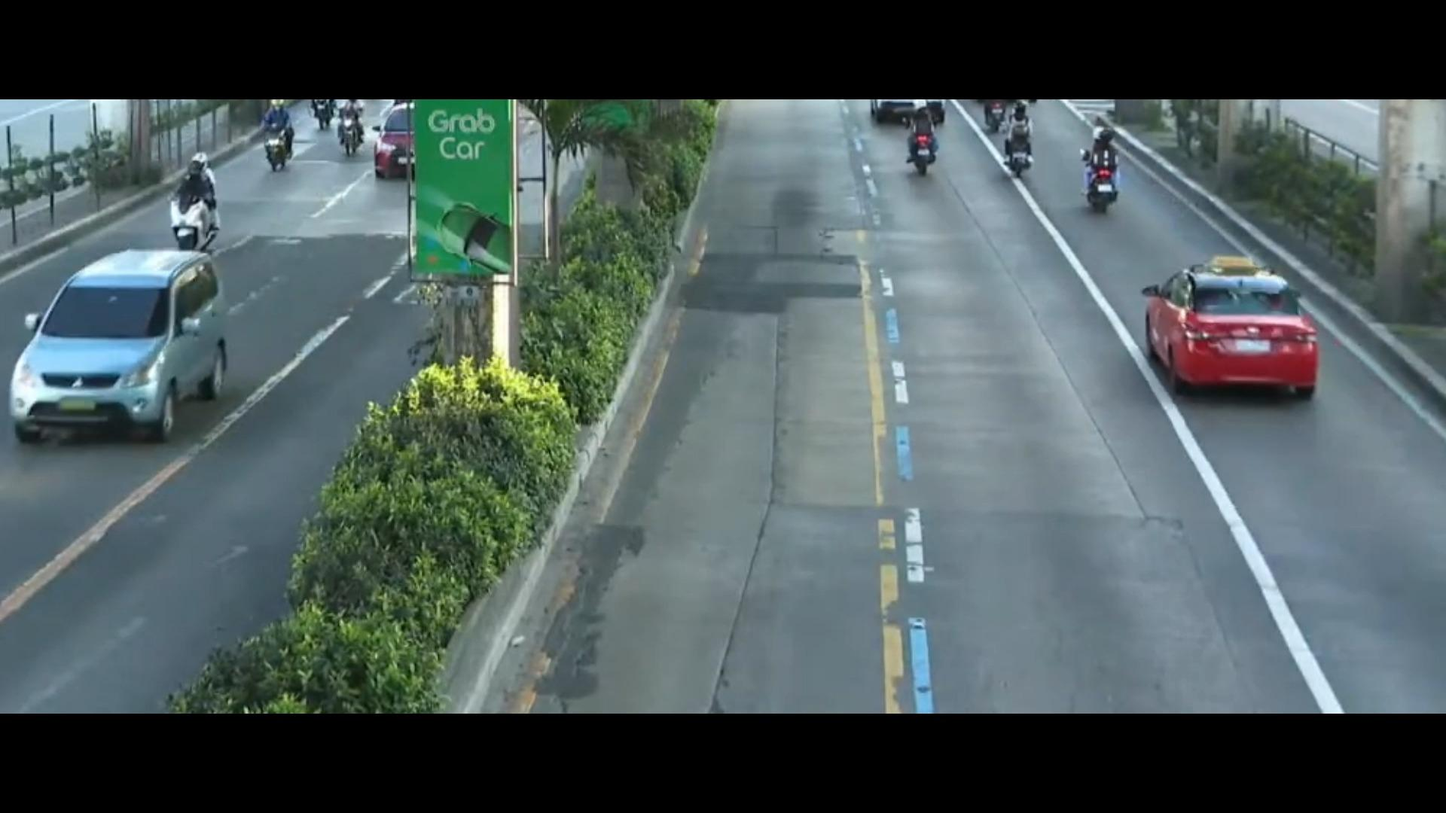Motorcycle: (146, 149, 217, 258), (1070, 126, 1156, 200), (244, 110, 320, 166), (323, 98, 384, 163), (996, 111, 1048, 178), (906, 96, 950, 175), (974, 102, 1033, 126), (309, 93, 332, 133)
SUV: (0, 225, 240, 468), (358, 101, 420, 183)
Sedan: (1126, 234, 1362, 425)
